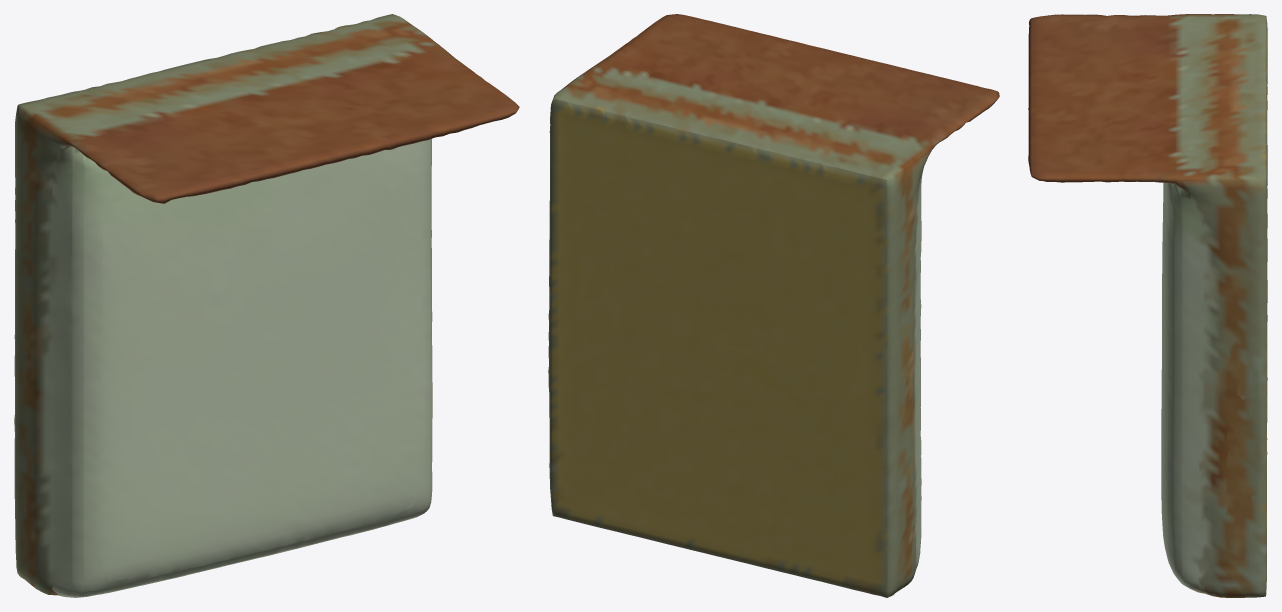
Rendered from a bed with lay affordance.obj.
3 views of the same model, side by side, from view 1: azimuth 30°, elevation 25°; view 2: azimuth 150°, elevation 25°; view 3: azimuth 270°, elevation 25° (orthographic). The views are drawn at different scales.
Size of the model in its own units: 0.8576 by 1 by 0.5136.
